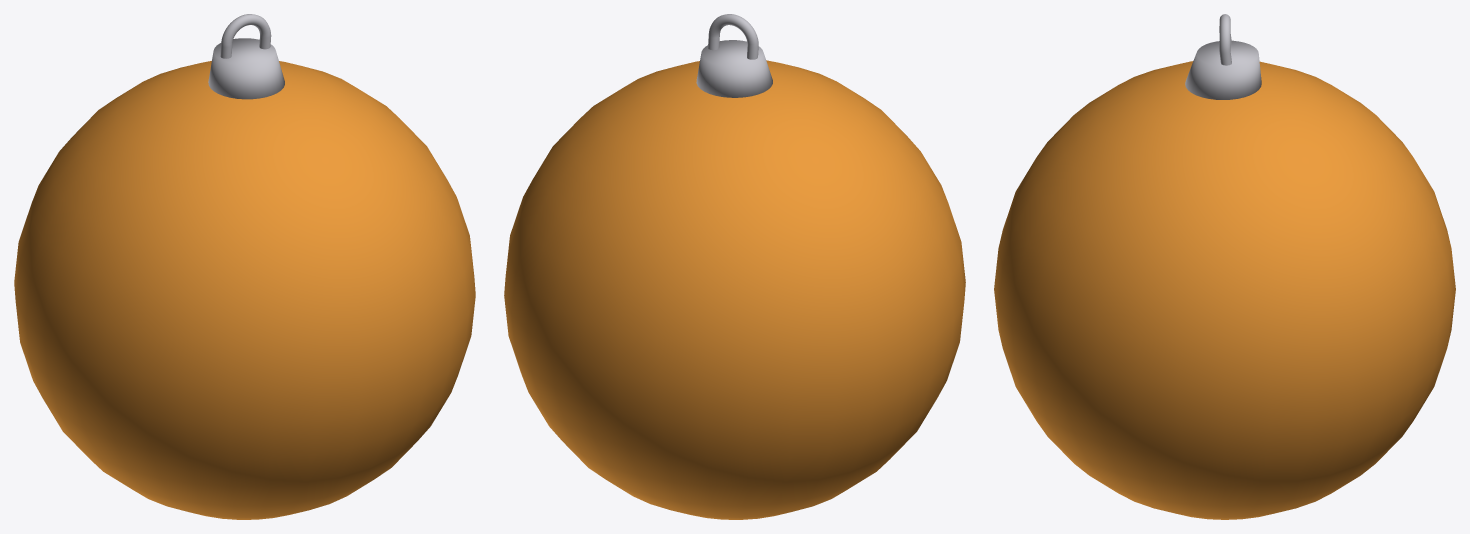
Rendered from GoldBall.fbx.
3 views of the same model, side by side, from view 1: azimuth 30°, elevation 25°; view 2: azimuth 150°, elevation 25°; view 3: azimuth 270°, elevation 25° (orthographic).
Parts seen in each view (by area): view 1: Sphere.001; view 2: Sphere.001; view 3: Sphere.001.
Part boxes in pixels (left/top/right/bottom): Sphere.001: left=14, top=14, right=475, bottom=519; Sphere.001: left=504, top=14, right=965, bottom=519; Sphere.001: left=994, top=14, right=1455, bottom=519.
Size of the model in its own units: 2 by 2.31 by 2.
